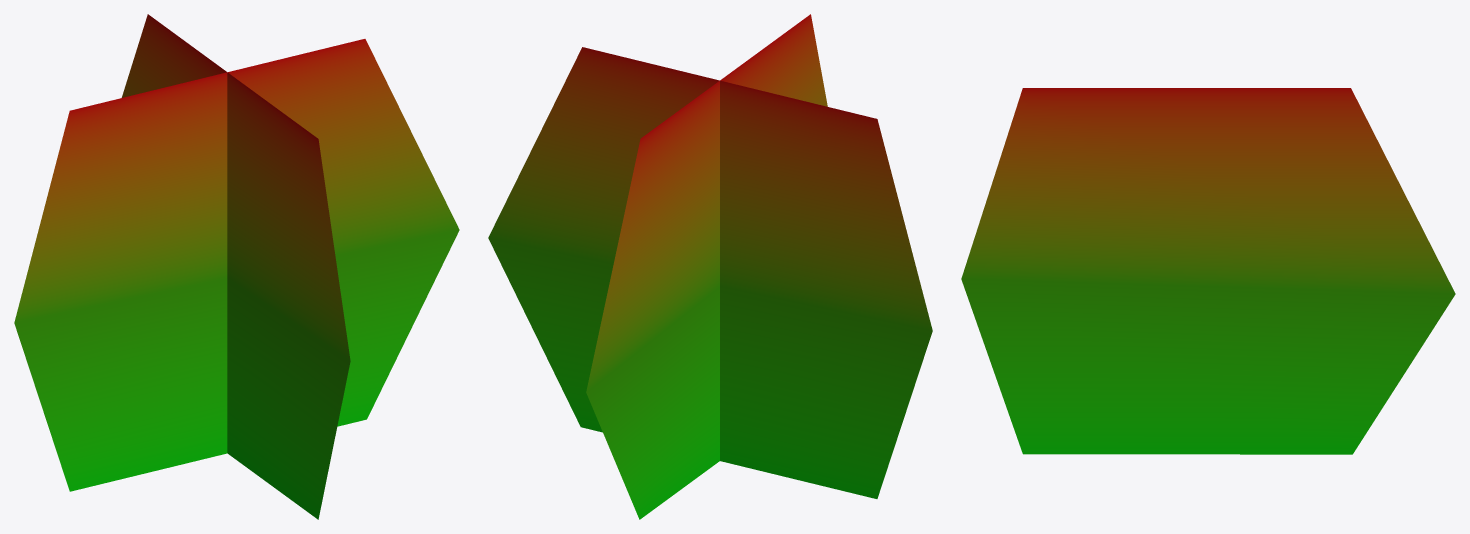
File: Var4_LOD5.fbx
3 views of the same model, side by side, from view 1: azimuth 30°, elevation 25°; view 2: azimuth 150°, elevation 25°; view 3: azimuth 270°, elevation 25° (orthographic). The views are drawn at different scales.
Parts seen in each view (by area): view 1: _lrg7_Var4_LOD5; view 2: _lrg7_Var4_LOD5; view 3: _lrg7_Var4_LOD5.
Part boxes in pixels (<box>): _lrg7_Var4_LOD5: <box>14,14,459,519</box>; _lrg7_Var4_LOD5: <box>488,14,932,519</box>; _lrg7_Var4_LOD5: <box>961,88,1455,454</box>.
Size of the model in its own units: 132 by 108 by 132.
